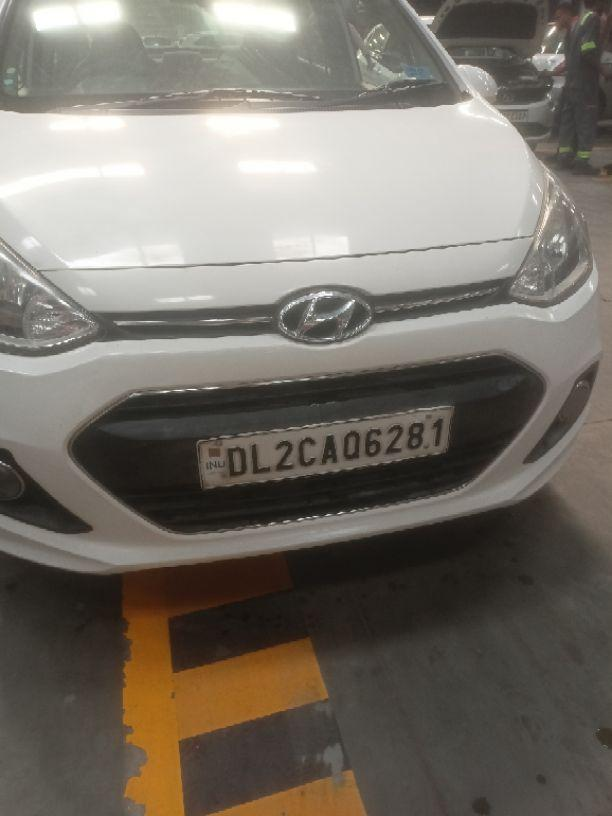license_plate: (194, 403, 455, 491)
